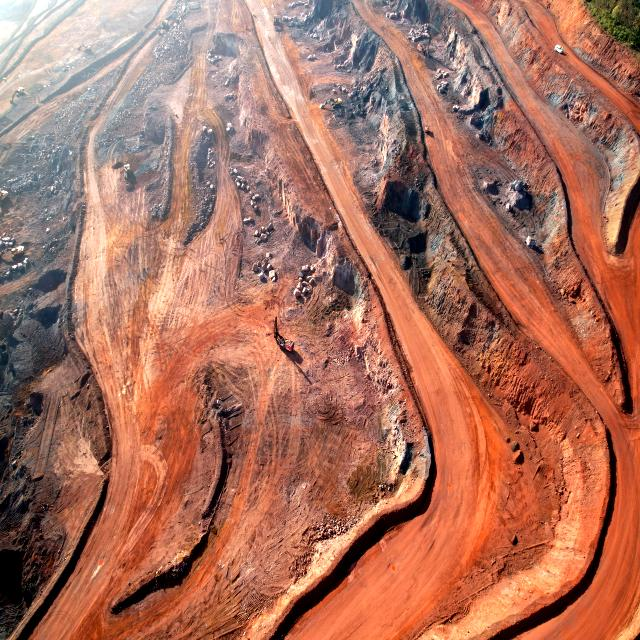Blast rig: (274, 315, 295, 354), (417, 34, 432, 57)
Excavator: (1, 240, 26, 260), (8, 85, 26, 106), (319, 97, 342, 110), (77, 40, 93, 56), (122, 164, 131, 192), (158, 16, 170, 37), (0, 187, 9, 206), (272, 14, 280, 33)
car: (555, 44, 563, 53)
person: (563, 46, 564, 50), (563, 48, 564, 51)
